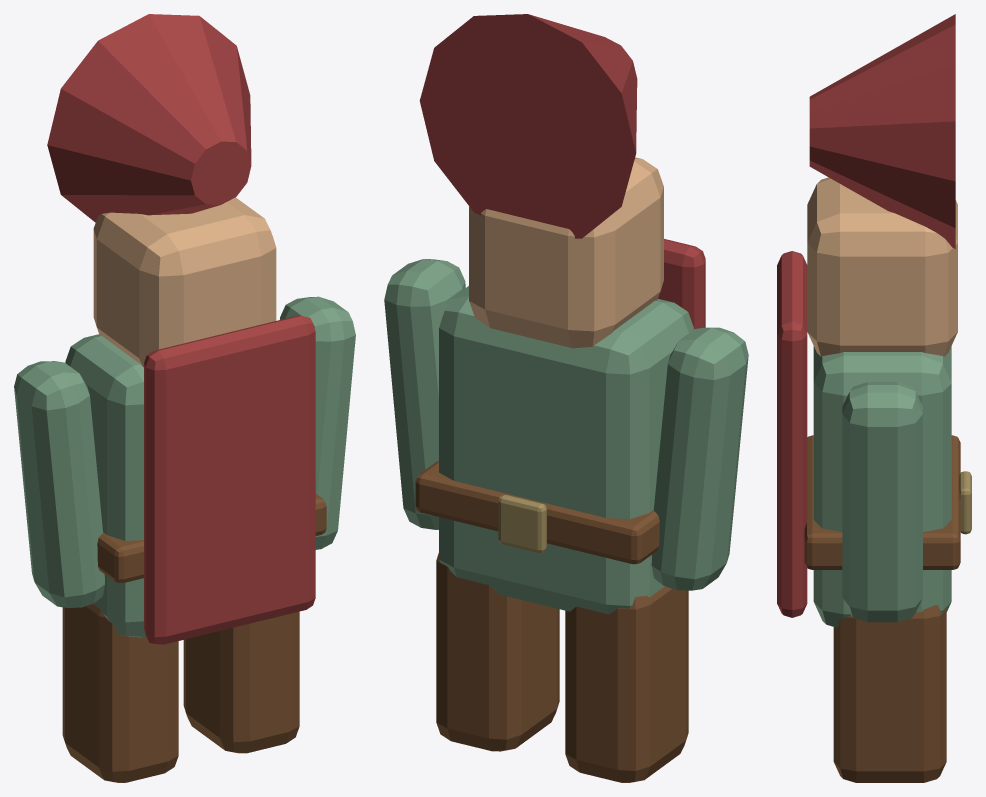
Rendered from medieval-traveler.glb.
3 views of the same model, side by side, from view 1: azimuth 30°, elevation 25°; view 2: azimuth 150°, elevation 25°; view 3: azimuth 270°, elevation 25° (orthographic). The views are drawn at different scales.
Visible parts, largest first — view 1: Cape, WoolCap, Head, Arm, Boot, Boot.001, Tunic, Arm.001, Belt; view 2: Tunic, WoolCap, Head, Boot, Arm, Boot.001, Arm.001, Belt, Cape, Buckle; view 3: WoolCap, Head, Arm.001, Boot.001, Tunic, Cape, Belt, Buckle.
Boxes of the visible parts, box(x1,y1,x2,y2) form: Cape: box(144, 316, 315, 644); WoolCap: box(47, 14, 251, 222); Head: box(93, 197, 276, 367); Arm: box(14, 361, 104, 607); Boot: box(62, 604, 178, 782); Boot.001: box(183, 611, 299, 753); Tunic: box(65, 334, 146, 637); Arm.001: box(280, 296, 355, 549); Belt: box(97, 494, 326, 583); Tunic: box(439, 286, 693, 614); WoolCap: box(419, 14, 637, 238); Head: box(469, 157, 663, 348); Boot: box(565, 586, 688, 782); Arm: box(651, 327, 748, 590); Boot.001: box(436, 553, 559, 751); Arm.001: box(384, 259, 465, 529); Belt: box(415, 461, 659, 564); Cape: box(658, 239, 705, 329); Buckle: box(498, 495, 546, 552); WoolCap: box(809, 14, 955, 248); Head: box(807, 177, 957, 356); Arm.001: box(842, 382, 922, 622); Boot.001: box(833, 605, 946, 782); Tunic: box(813, 346, 951, 627); Cape: box(777, 251, 807, 617); Belt: box(804, 435, 960, 569); Buckle: box(959, 471, 971, 534).
Bounding box in the file's own units: 1.49 × 3.16 × 0.775.
